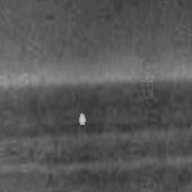Target: (77, 110, 88, 126)
